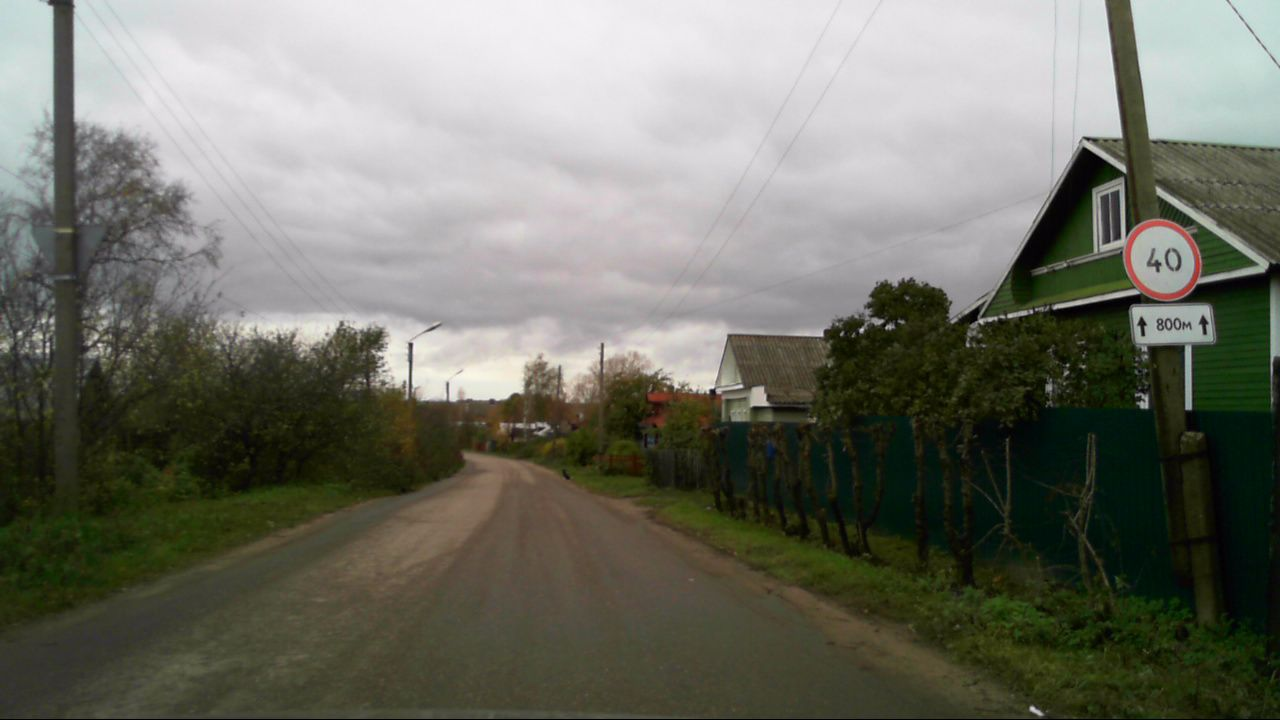speed_warning_40: (1122, 219, 1202, 301)
